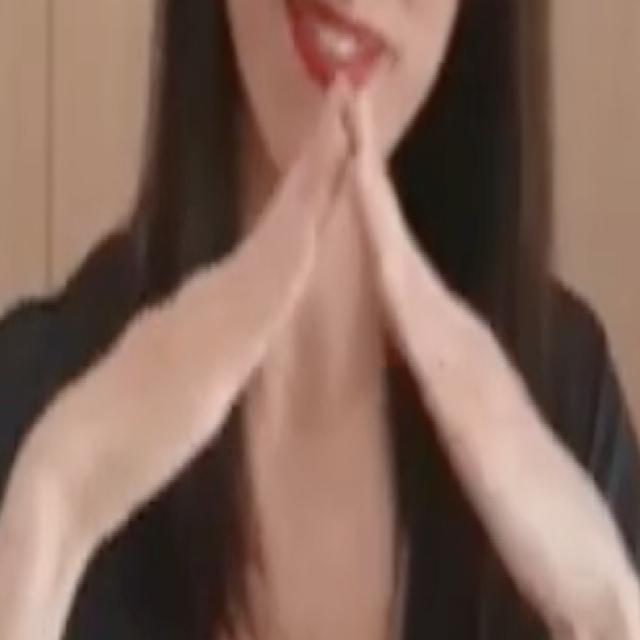casa: (77, 66, 631, 618)
